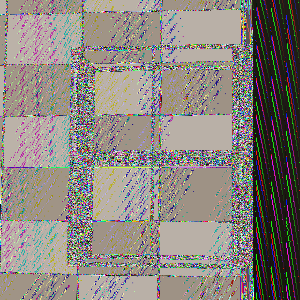Rack: (45, 29, 234, 256)
